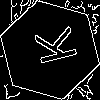K: (25, 25, 78, 69)
